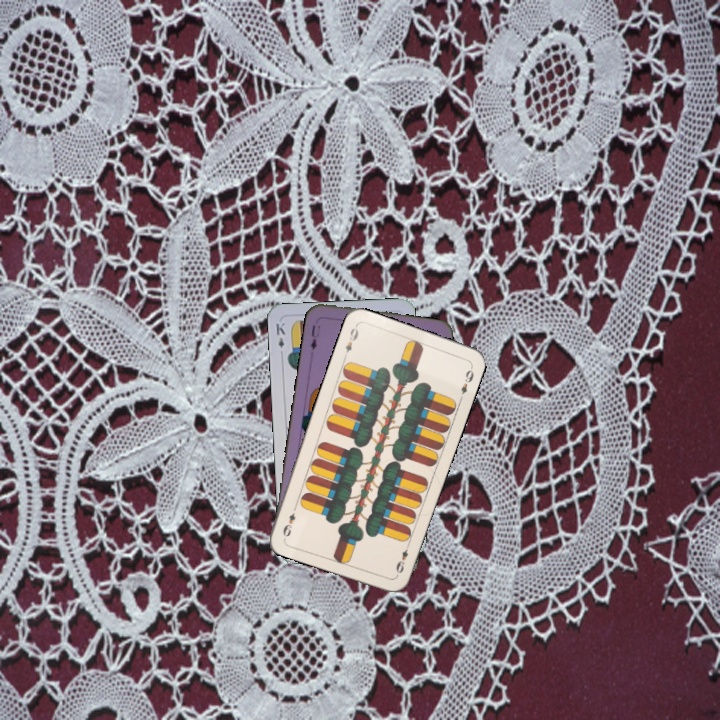E9: (340, 322, 361, 361), (392, 540, 412, 579)
EK: (272, 318, 287, 351)
EU: (306, 321, 323, 352)
